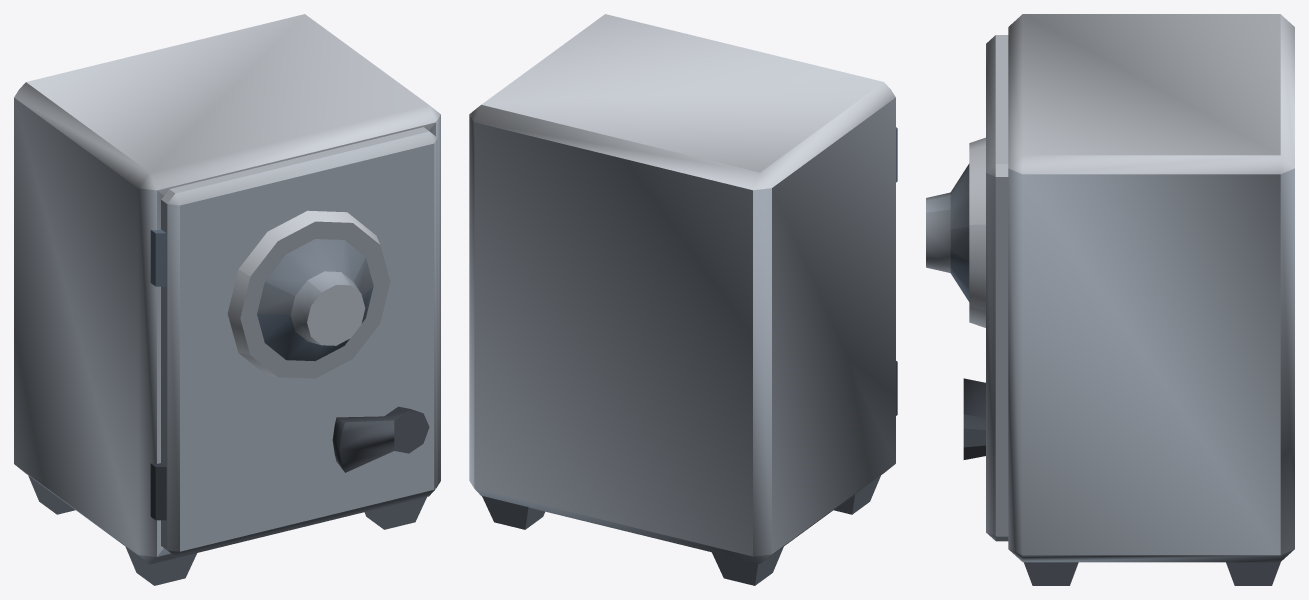
The model's file is cofre_pacote.glb.
3 views of the same model, side by side, from view 1: azimuth 30°, elevation 25°; view 2: azimuth 150°, elevation 25°; view 3: azimuth 270°, elevation 25° (orthographic). The views are drawn at different scales.
Parts seen in each view (by area): view 1: porta_cofre, cofre_pacote; view 2: cofre_pacote; view 3: cofre_pacote, porta_cofre.
Boxes of the visible parts, x1=… form: porta_cofre: x1=150, y1=127, x2=437, y2=556; cofre_pacote: x1=14, y1=14, x2=440, y2=585; cofre_pacote: x1=469, y1=14, x2=895, y2=585; cofre_pacote: x1=1008, y1=14, x2=1294, y2=585; porta_cofre: x1=926, y1=35, x2=1008, y2=541.
Size of the model in its own units: 0.8711 by 1.15 by 0.884.
1 material, 1 textured.
